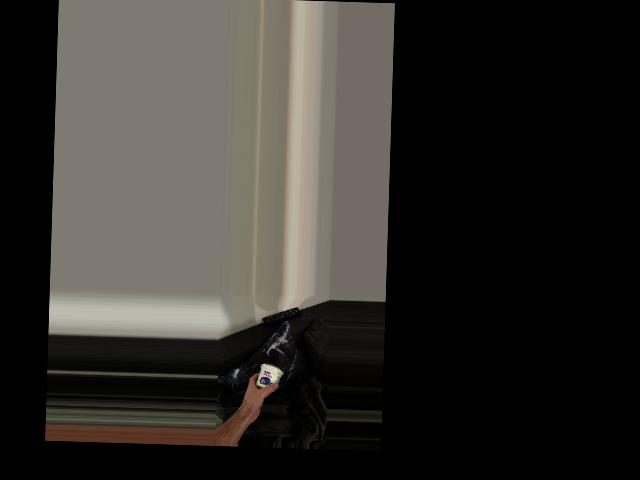cotage: (252, 359, 284, 395)
